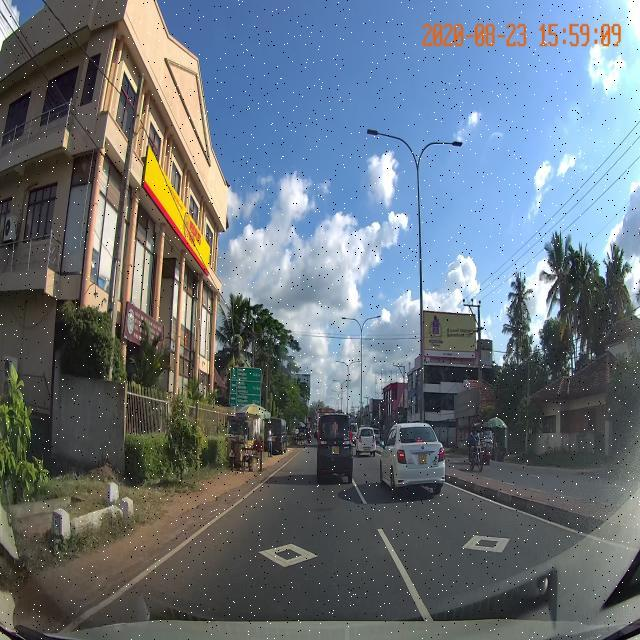diamond: (118, 521, 422, 578)
